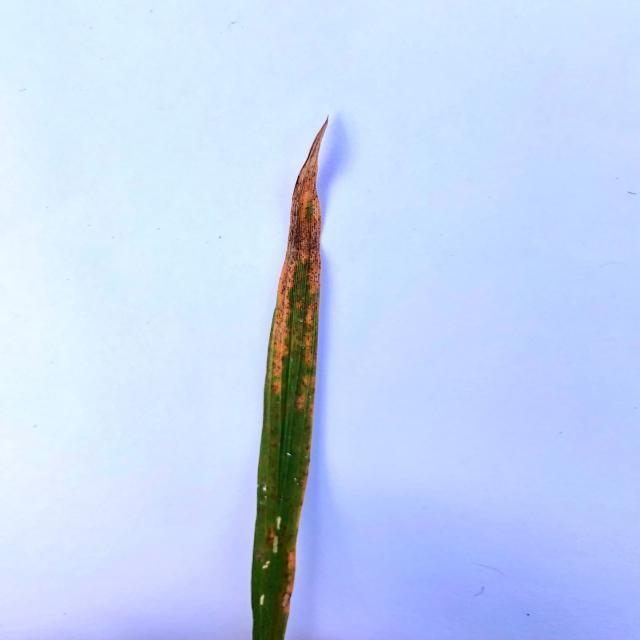Rice Tungro: (249, 115, 329, 640)
